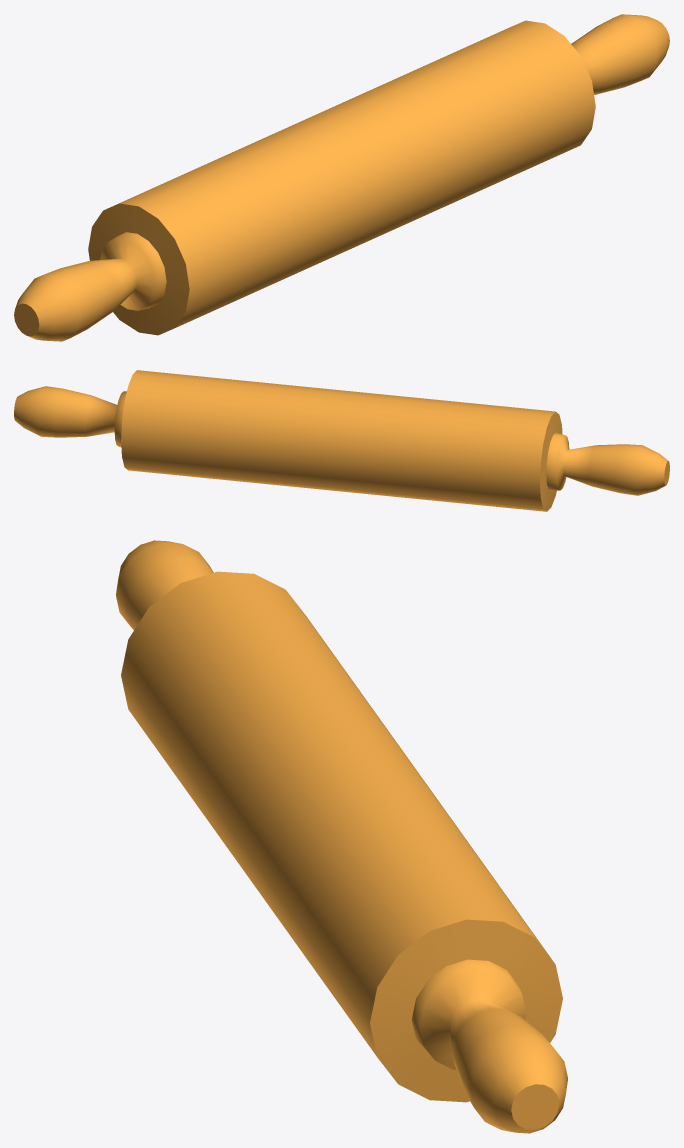
Rendered from oklava.fbx.
The picture shows the model from 3 angles, top to bottom: view 1: azimuth 30°, elevation 25°; view 2: azimuth 150°, elevation 25°; view 3: azimuth 270°, elevation 25°; orthographic projection. The views are drawn at different scales.
Visible parts, largest first — view 1: oklava; view 2: oklava; view 3: oklava.
Boxes of the visible parts, left/top/right/bottom form: oklava: left=14, top=14, right=669, bottom=341; oklava: left=14, top=370, right=669, bottom=511; oklava: left=116, top=540, right=567, bottom=1133.
Size of the model in its own units: 1469 by 229 by 514.
